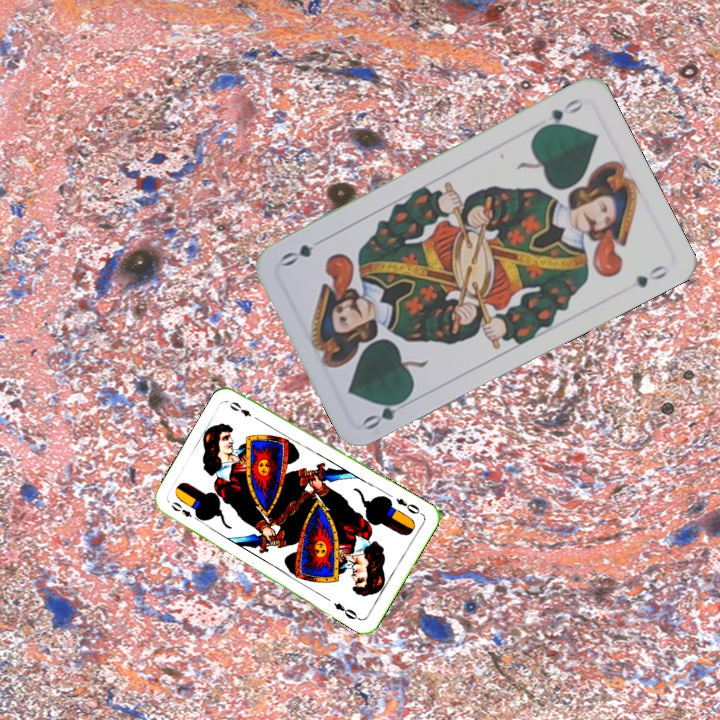EO: (167, 498, 203, 524), (392, 494, 426, 518)
GO: (359, 391, 412, 433), (534, 94, 586, 134)
